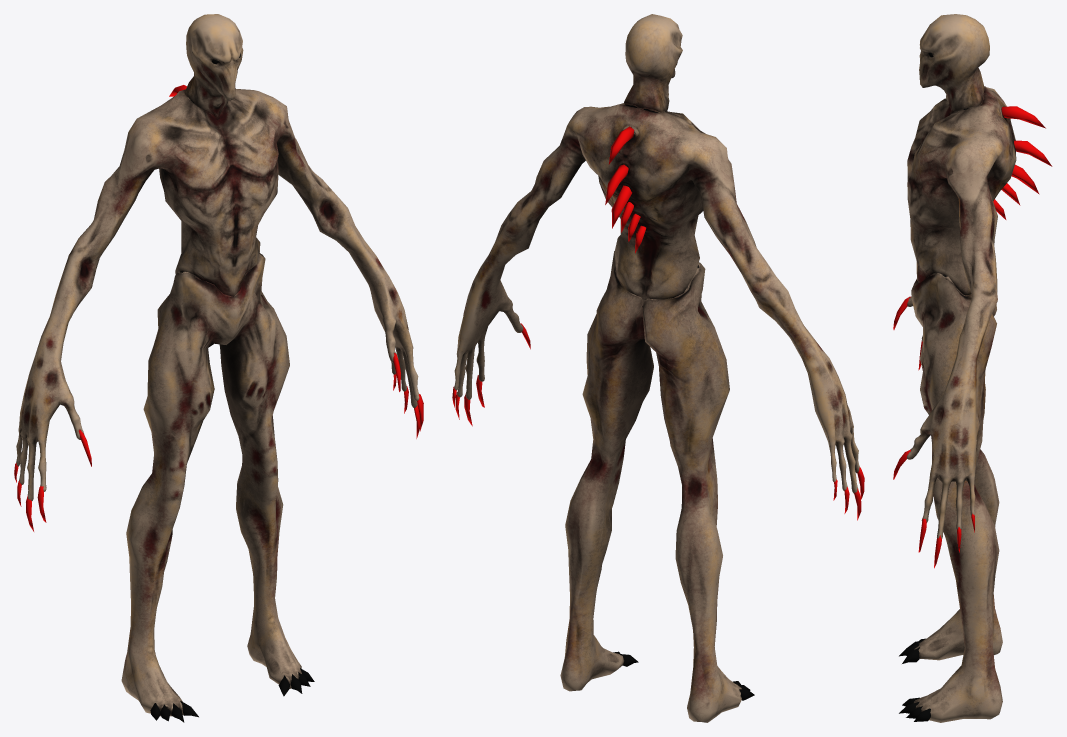
File: Beast.glb
3 views of the same model, side by side, from view 1: azimuth 30°, elevation 25°; view 2: azimuth 150°, elevation 25°; view 3: azimuth 270°, elevation 25° (orthographic).
Parts seen in each view (by area): view 1: zomboid1_LORES_001; view 2: zomboid1_LORES_001; view 3: zomboid1_LORES_001.
Part boxes in pixels (bbox=[...]): zomboid1_LORES_001: bbox=[14, 14, 423, 722]; zomboid1_LORES_001: bbox=[452, 14, 864, 722]; zomboid1_LORES_001: bbox=[893, 14, 1052, 722].
Size of the model in its own units: 1.41 by 2.29 by 0.4935.
2 materials, 1 textured.
